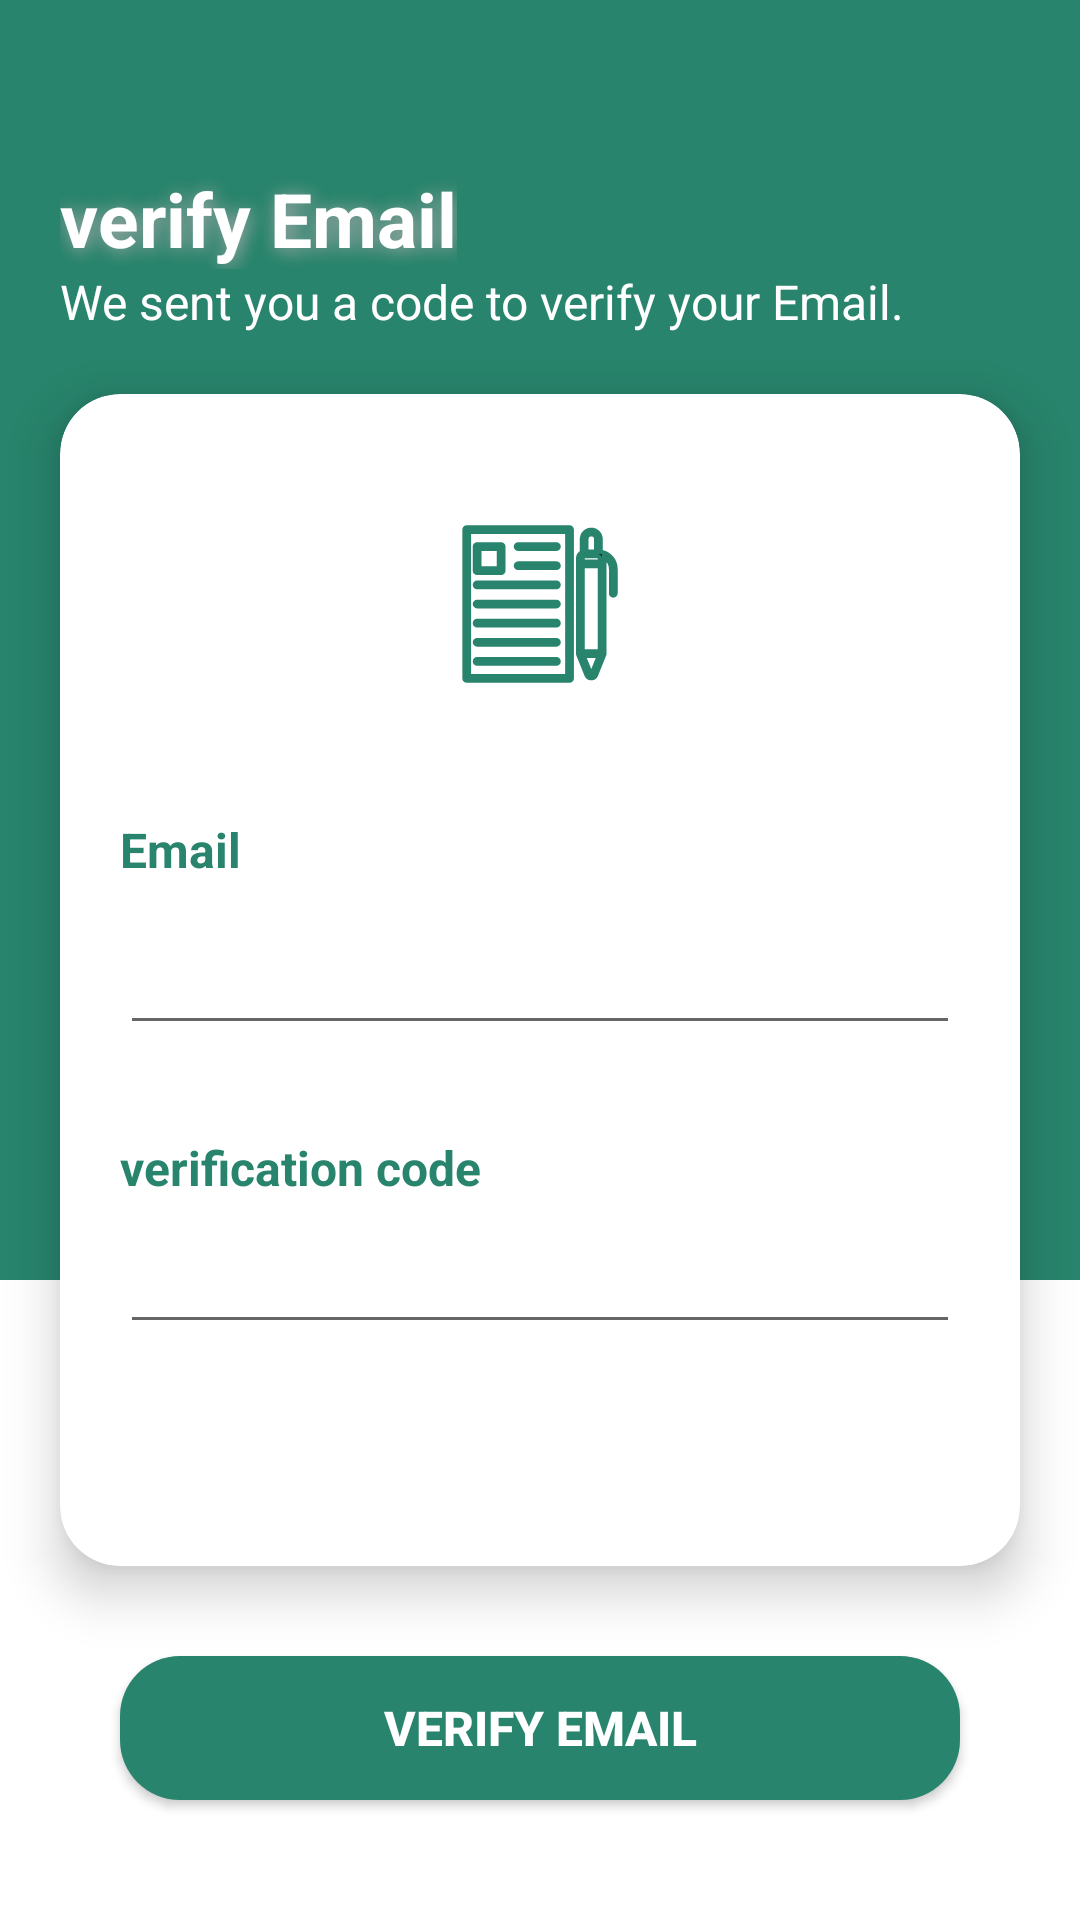

Icon bounding boxes for this 1080x1920 phone screenshot, format detection(x1, y1, x2, y2):
education learning: detection(462, 525, 618, 683)
